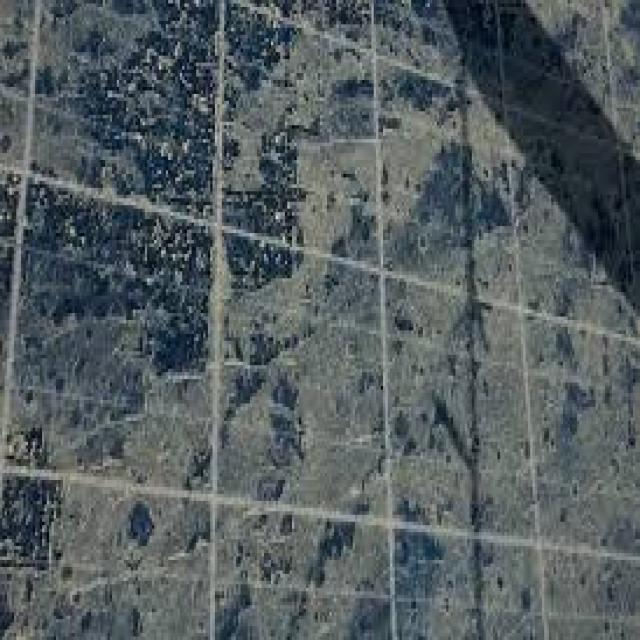Dusty: (1, 2, 640, 638)
